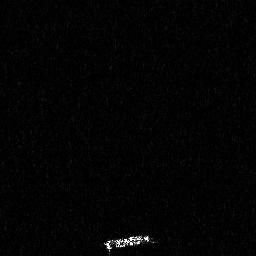ship: (101, 233, 161, 256)
